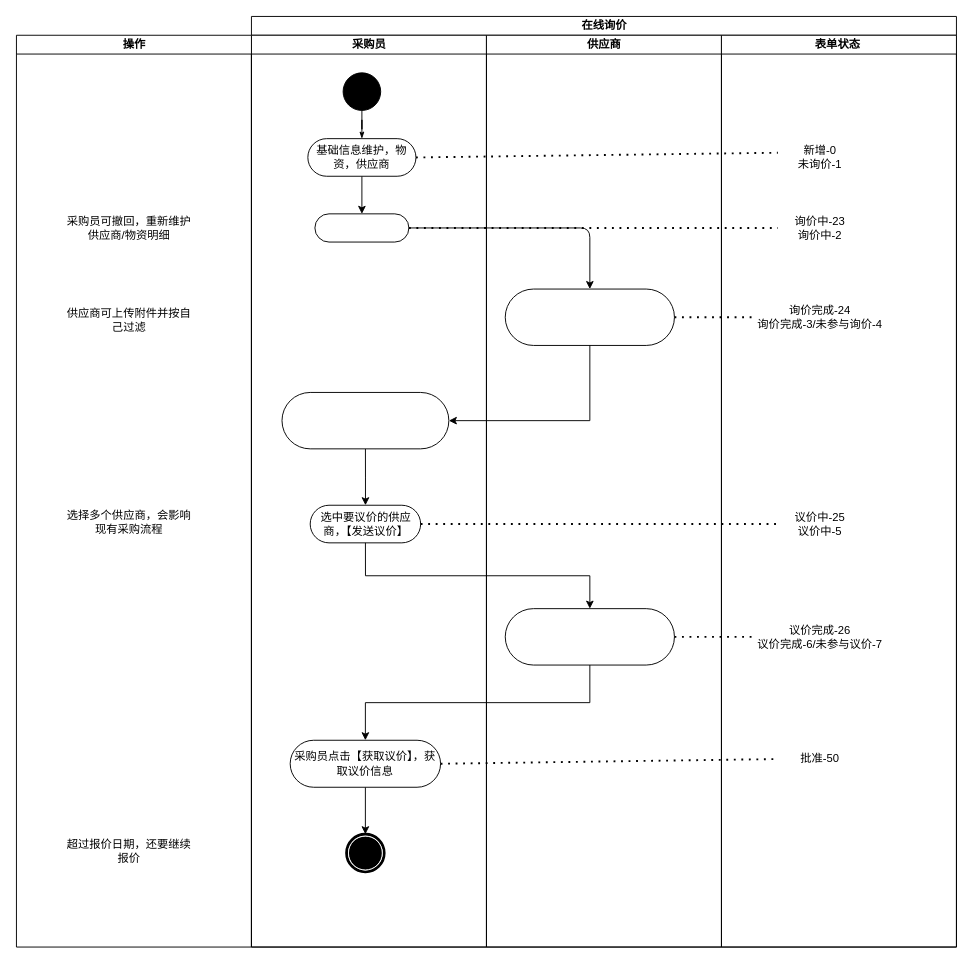
Some shapes in this 973 by 964 pixel diagram are drawn without their labels. Each missing label, with the centre of its shape:
"【在线询价】" belongs at point (361, 227).
"填写/导入报价，维护供应商信息，【提交报价】或到达最后报价日期" belongs at point (589, 316).
"填写/导入议价，维护供应商信息，【提交议价】或到达最后报价日期" belongs at point (589, 636).
"采购员点击【开标】，获取报价信息到采购审批单，使在线询价单解锁，采购员可查看" belongs at point (365, 420).
